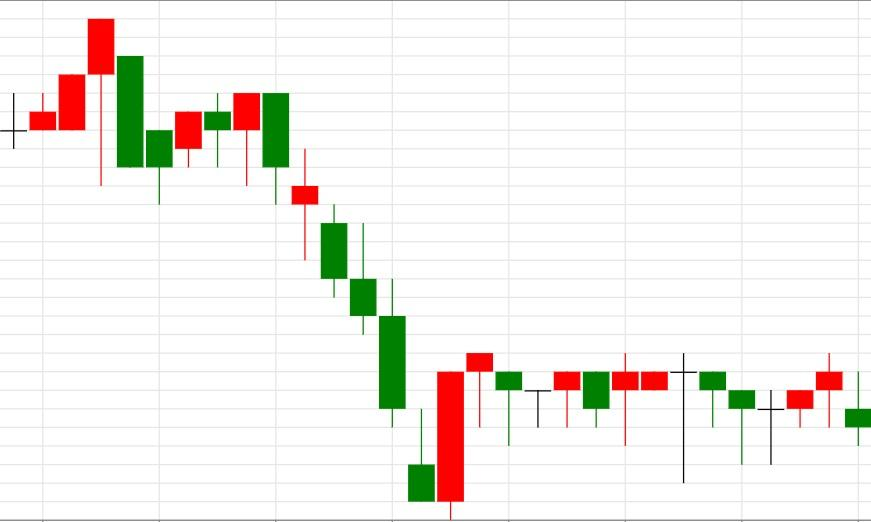bearish_engulfing_fall: (145, 92, 290, 205)
bullish_engulfing_rise: (233, 92, 466, 522)
